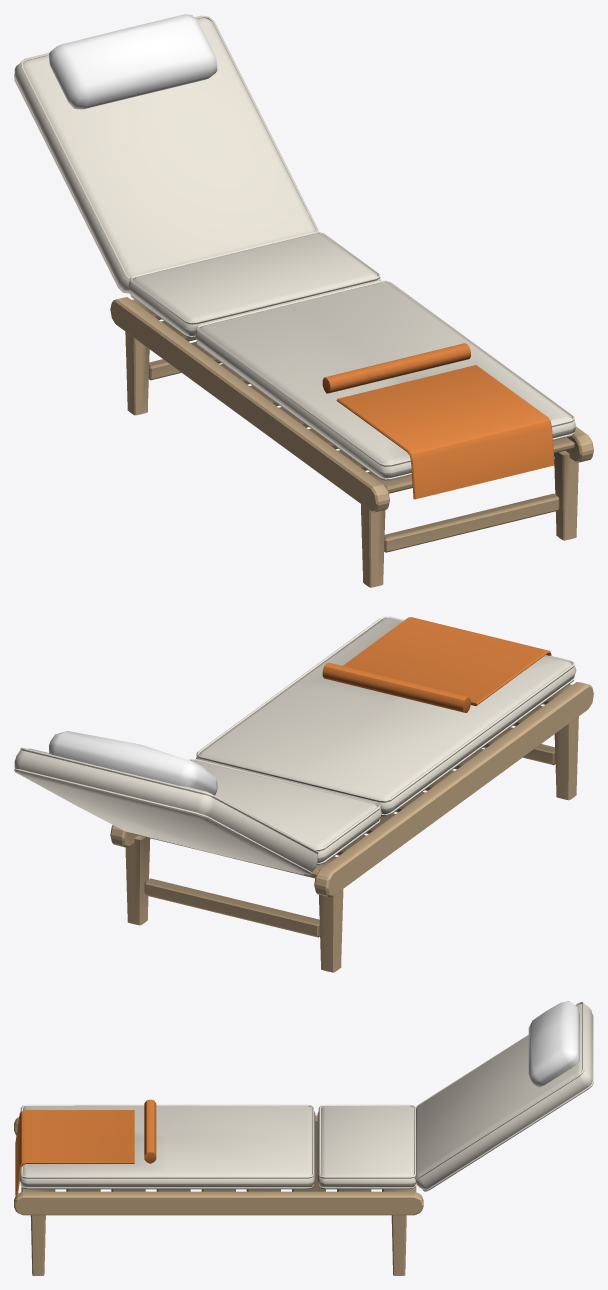
The model's file is sunLounger.glb.
3 views of the same model, one above another, from view 1: azimuth 30°, elevation 25°; view 2: azimuth 150°, elevation 25°; view 3: azimuth 270°, elevation 25° (orthographic). The views are drawn at different scales.
Parts seen in each view (by area): view 1: lounger, back; view 2: lounger, back; view 3: lounger, back.
Boxes of the visible parts, x1,y1,x2,y2 form: lounger: (110,232,593,587); back: (14,14,318,293); lounger: (110,616,593,972); back: (14,731,318,875); lounger: (14,1099,423,1275); back: (414,1001,593,1191).
Bounding box in the file's own units: 0.62 × 0.7575 × 1.86.
